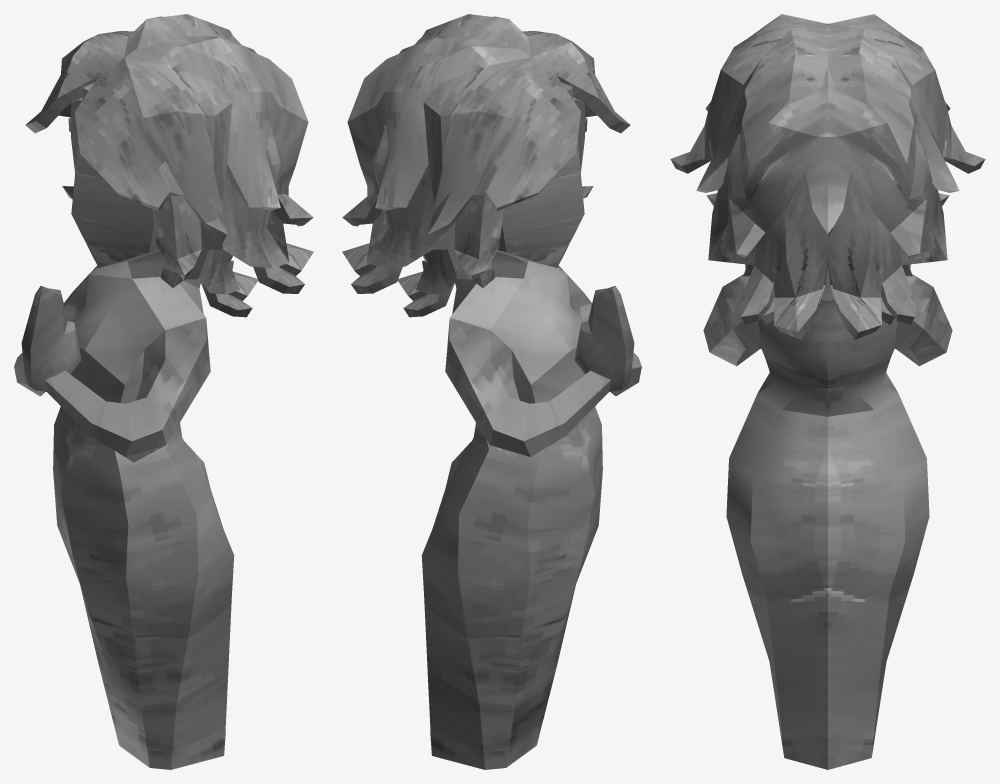
The model's file is dancingstatue.glb.
3 views of the same model, side by side, from view 1: azimuth 30°, elevation 25°; view 2: azimuth 150°, elevation 25°; view 3: azimuth 270°, elevation 25° (orthographic).
Parts seen in each view (by area): view 1: statue hair.001; view 2: statue hair.001; view 3: statue hair.001.
Part boxes in pixels (<box>): statue hair.001: <box>14,14,313,769</box>; statue hair.001: <box>342,14,641,769</box>; statue hair.001: <box>670,14,985,769</box>.
Size of the model in its own units: 2.26 by 5.62 by 2.25.
Materials: 1 (1 with a texture image).
